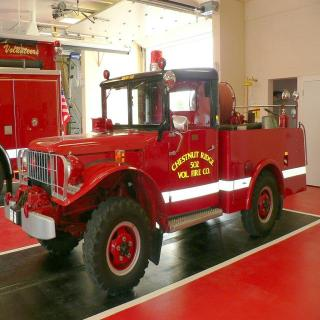Fire_truck: (3, 49, 307, 296), (0, 32, 70, 196)
